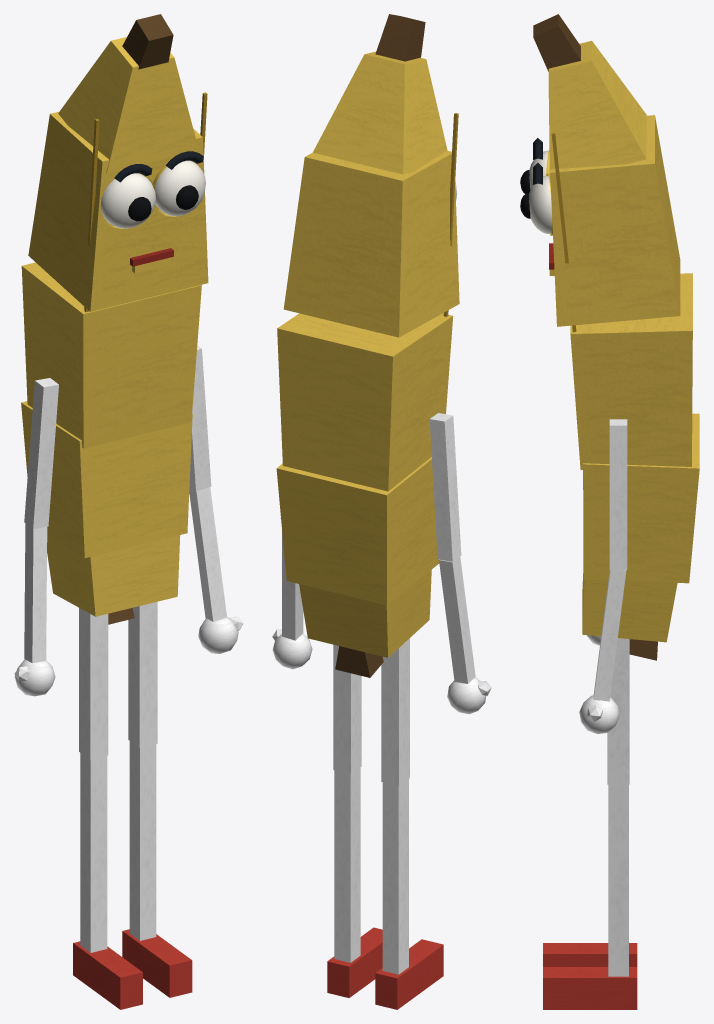
File: banana-man.glb
The picture shows the model from 3 angles, left to right: view 1: azimuth 30°, elevation 25°; view 2: azimuth 150°, elevation 25°; view 3: azimuth 270°, elevation 25°; orthographic projection. The views are drawn at different scales.
Parts seen in each view (by area): view 1: torso, head, kneeR, kneeL, hipR, hipL, shoulderR, footR, elbowR, footL, elbowL, shoulderL (+2 smaller); view 2: torso, head, kneeR, kneeL, hipR, shoulderR, hipL, footR, elbowR, footL, elbowL, handR (+1 smaller); view 3: head, torso, kneeL, footL, shoulderL, hipL, elbowL, footR, handL.
Boxes of the visible parts, x1=… form: torso: x1=21, y1=262, x2=201, y2=624; head: x1=28, y1=14, x2=208, y2=312; kneeR: x1=80, y1=753, x2=107, y2=952; kneeL: x1=129, y1=741, x2=156, y2=940; hipR: x1=79, y1=608, x2=108, y2=759; hipL: x1=128, y1=601, x2=157, y2=747; shoulderR: x1=24, y1=378, x2=58, y2=528; footR: x1=73, y1=941, x2=142, y2=1009; elbowR: x1=24, y1=523, x2=47, y2=663; footL: x1=122, y1=929, x2=192, y2=997; elbowL: x1=189, y1=487, x2=226, y2=621; shoulderL: x1=189, y1=345, x2=211, y2=491; torso: x1=276, y1=313, x2=453, y2=677; head: x1=283, y1=14, x2=459, y2=337; kneeR: x1=382, y1=779, x2=408, y2=974; kneeL: x1=334, y1=767, x2=360, y2=962; hipR: x1=381, y1=638, x2=409, y2=785; shoulderR: x1=429, y1=413, x2=461, y2=561; hipL: x1=333, y1=644, x2=361, y2=774; footR: x1=375, y1=939, x2=443, y2=1009; elbowR: x1=439, y1=557, x2=475, y2=683; footL: x1=327, y1=927, x2=382, y2=997; elbowL: x1=282, y1=531, x2=303, y2=640; handR: x1=447, y1=677, x2=491, y2=714; head: x1=520, y1=14, x2=680, y2=332; torso: x1=570, y1=273, x2=699, y2=660; kneeL: x1=608, y1=784, x2=628, y2=976; footL: x1=543, y1=967, x2=637, y2=1009; shoulderL: x1=609, y1=419, x2=627, y2=569; hipL: x1=607, y1=638, x2=629, y2=784; elbowL: x1=593, y1=570, x2=626, y2=701; footR: x1=543, y1=943, x2=637, y2=966; handL: x1=579, y1=695, x2=619, y2=733.
Bounding box in the file's own units: 0.4331 × 1.82 × 0.3045.
15 materials, 12 textured.
